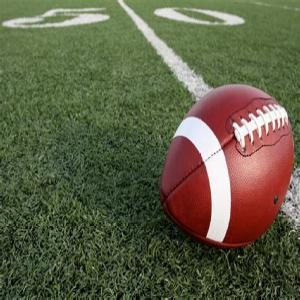Rugby: (159, 83, 294, 248)
